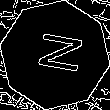N_W: (27, 31, 83, 79)
